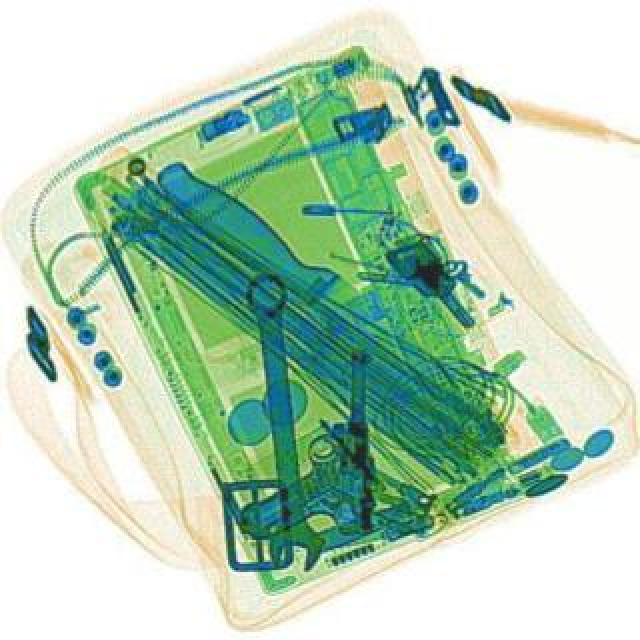gun: (234, 346, 376, 538)
knife: (138, 154, 478, 398)
scissors: (234, 270, 326, 574)
